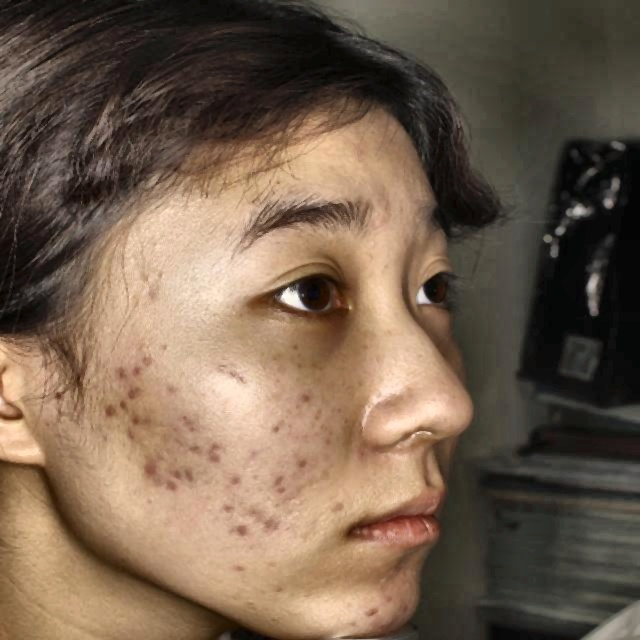pustule: (161, 460, 202, 500), (101, 377, 141, 407), (363, 586, 393, 622), (120, 356, 169, 377), (222, 499, 250, 535), (254, 506, 284, 529), (198, 439, 224, 465), (142, 458, 160, 493), (128, 412, 147, 437), (89, 410, 131, 421)
